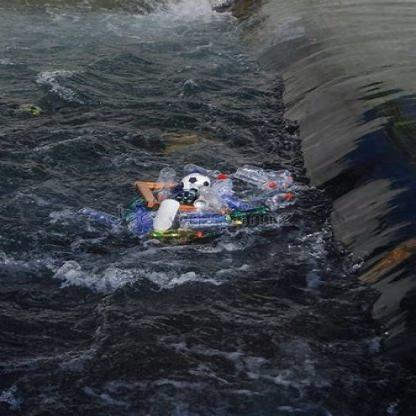Plastic: (177, 209, 243, 234), (235, 165, 284, 189), (183, 162, 228, 186), (153, 194, 178, 235), (155, 164, 179, 201), (267, 190, 300, 208)
Trash: (122, 204, 160, 238), (184, 173, 212, 194)
